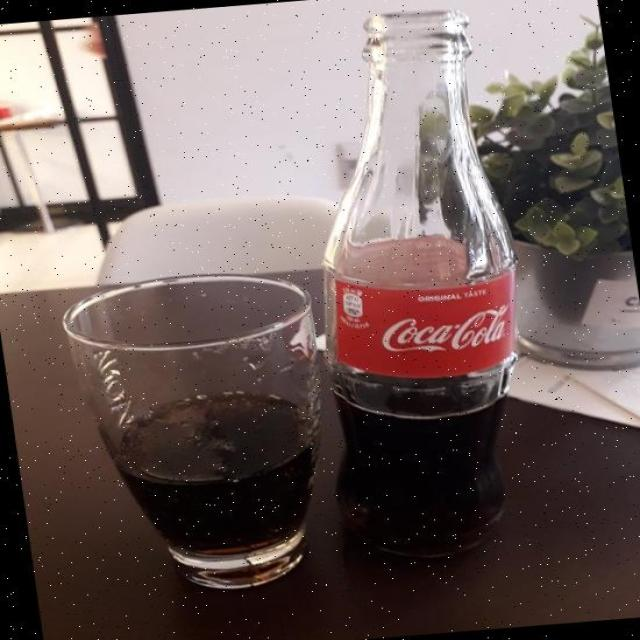coca-cola: (255, 1, 560, 584)
